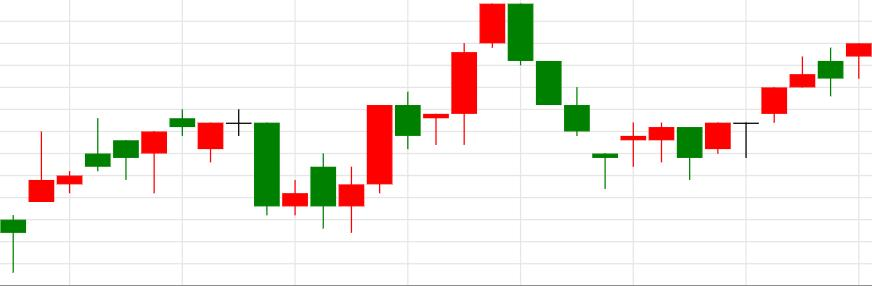bearish_engulfing_fall: (310, 3, 535, 233)
evening_star_fall: (0, 109, 281, 274)
